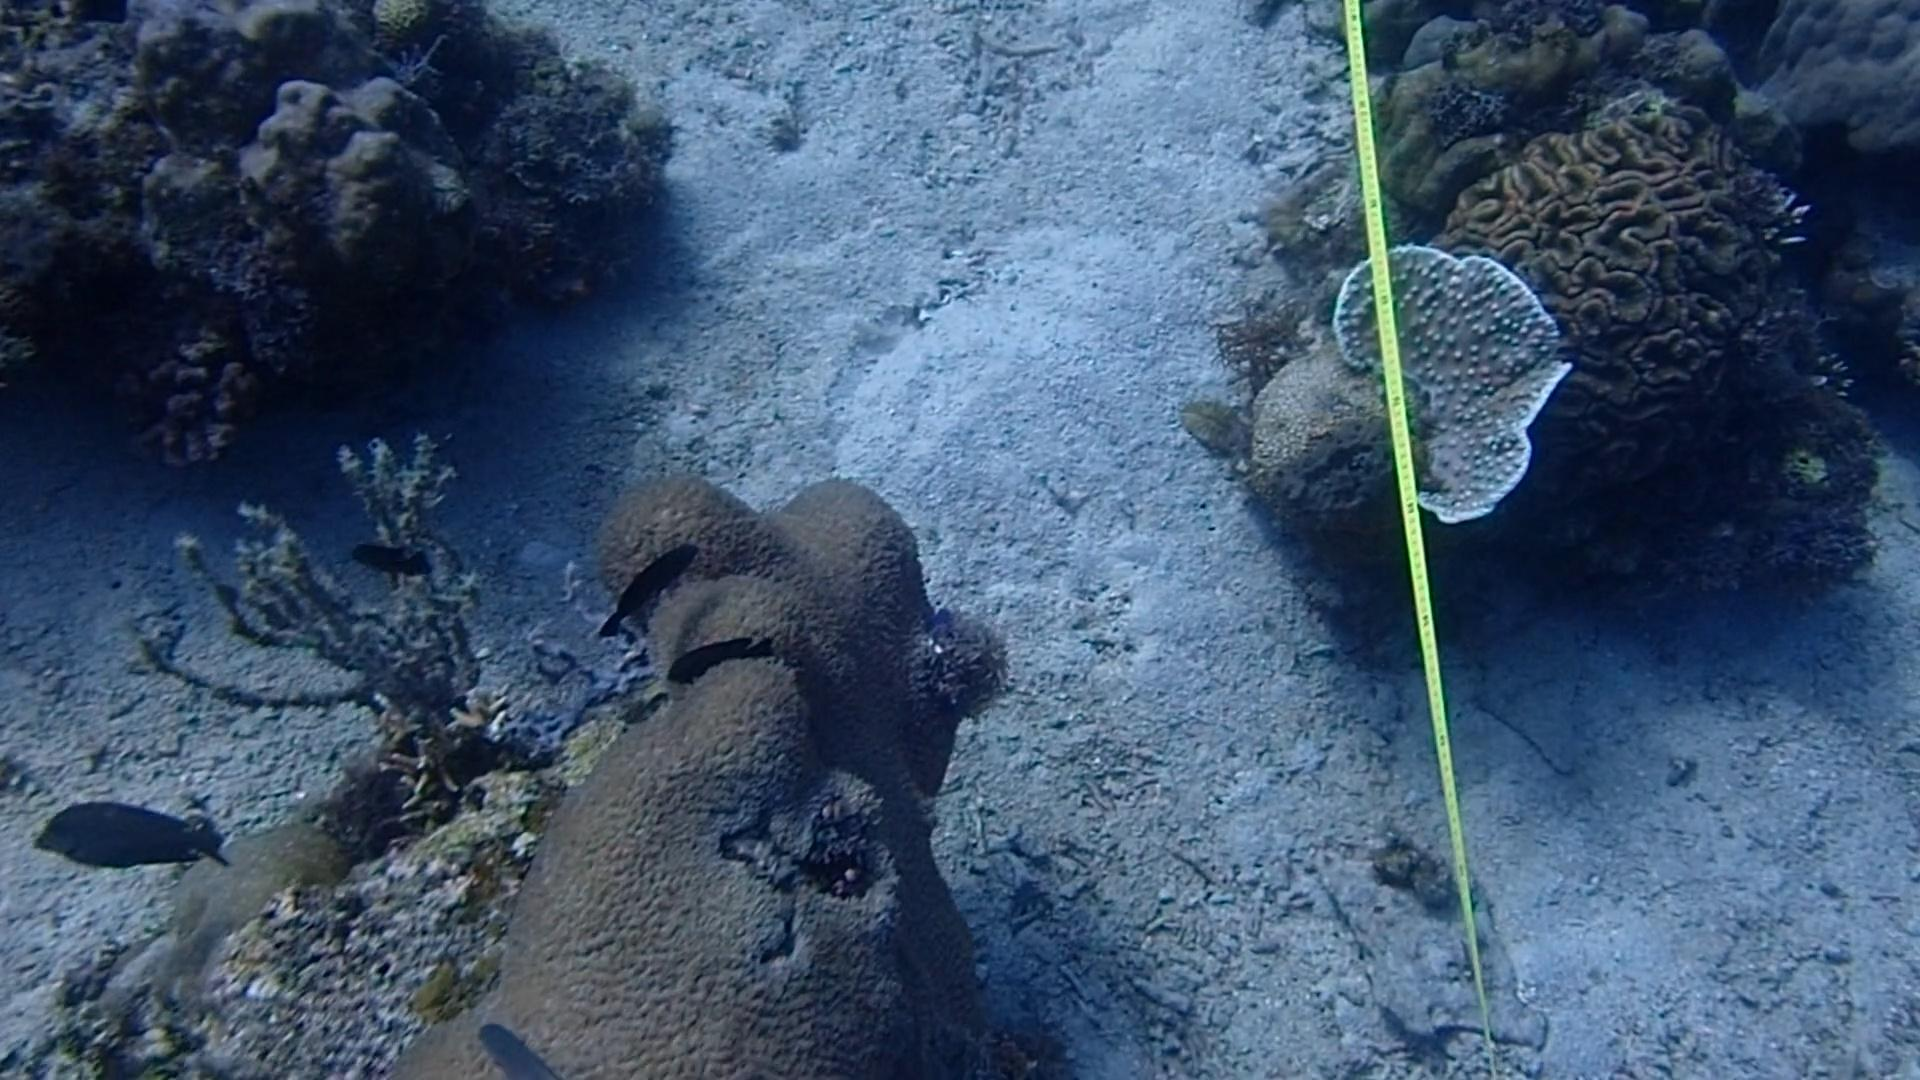Big Dark Blue Fish: (15, 787, 243, 889)
Dark Fish: (595, 538, 711, 637), (646, 625, 798, 679), (336, 527, 443, 585)
